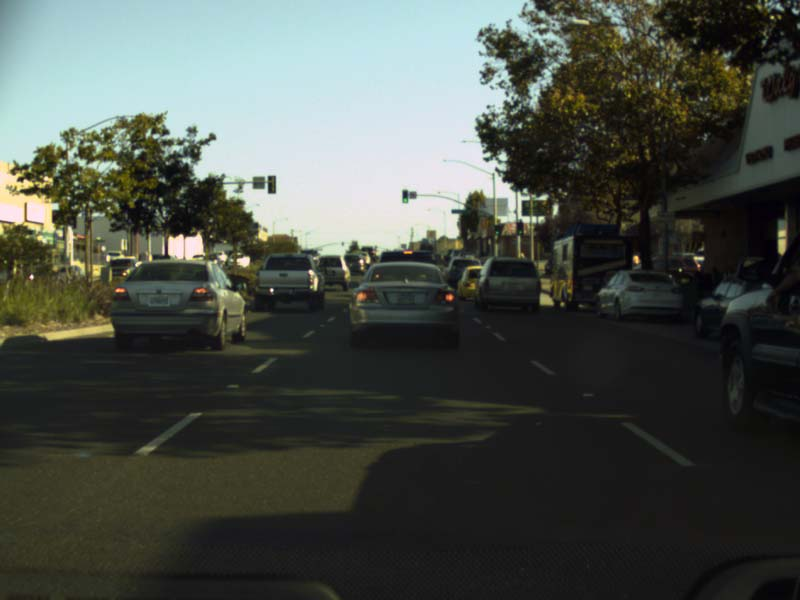Green: (401, 189, 409, 203), (516, 222, 523, 235), (493, 224, 500, 235)
